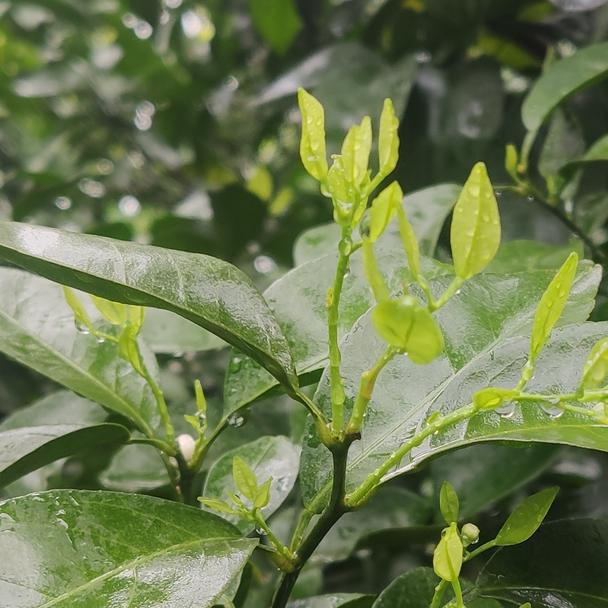shoot: (351, 158, 517, 373), (475, 255, 608, 432), (304, 96, 395, 252), (67, 285, 156, 382), (207, 466, 284, 543)
